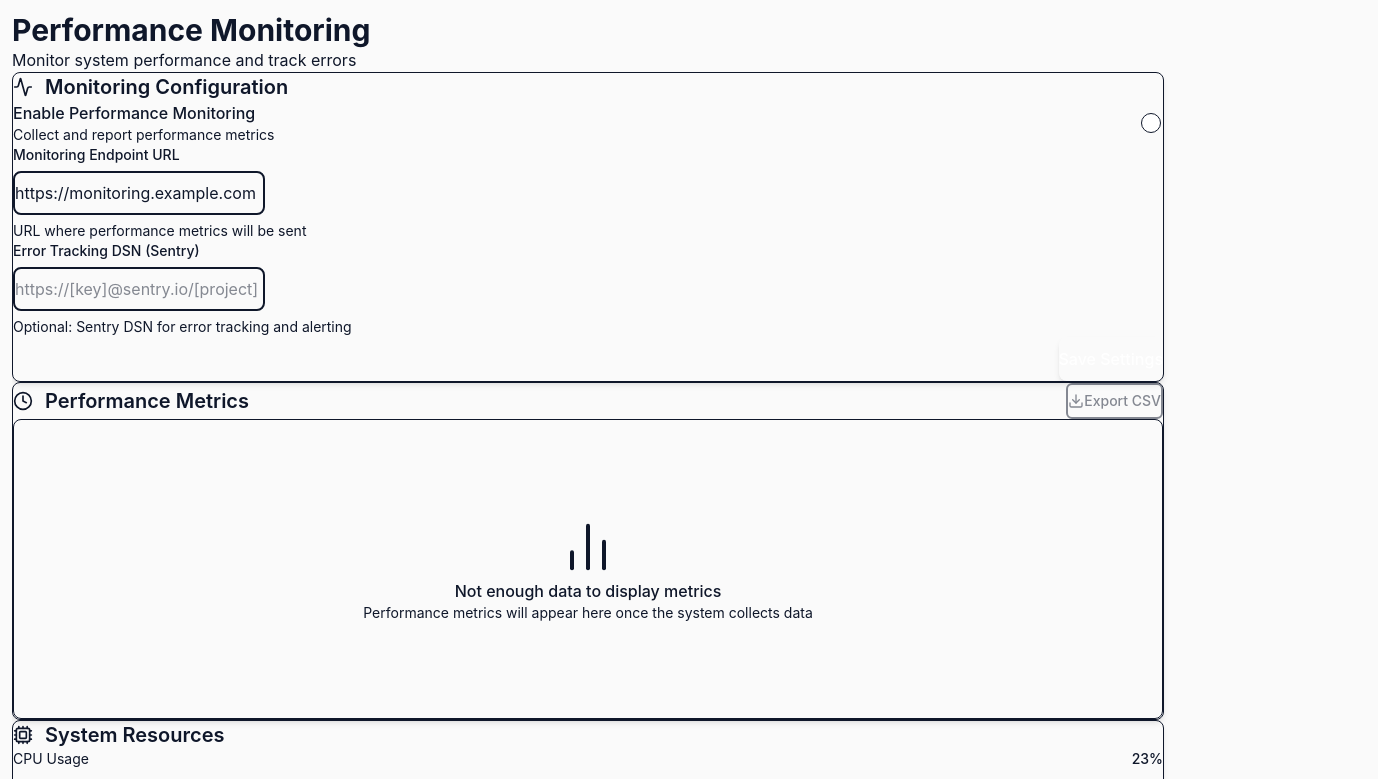
Test: PerformancePage Integration Tests › Monitoring Configuration - Requirement 25.2 › should disable fields when monitoring is disabled
# Disable monitoring
Click the checkbox at (134, 113), box 13,103 -> 255,123
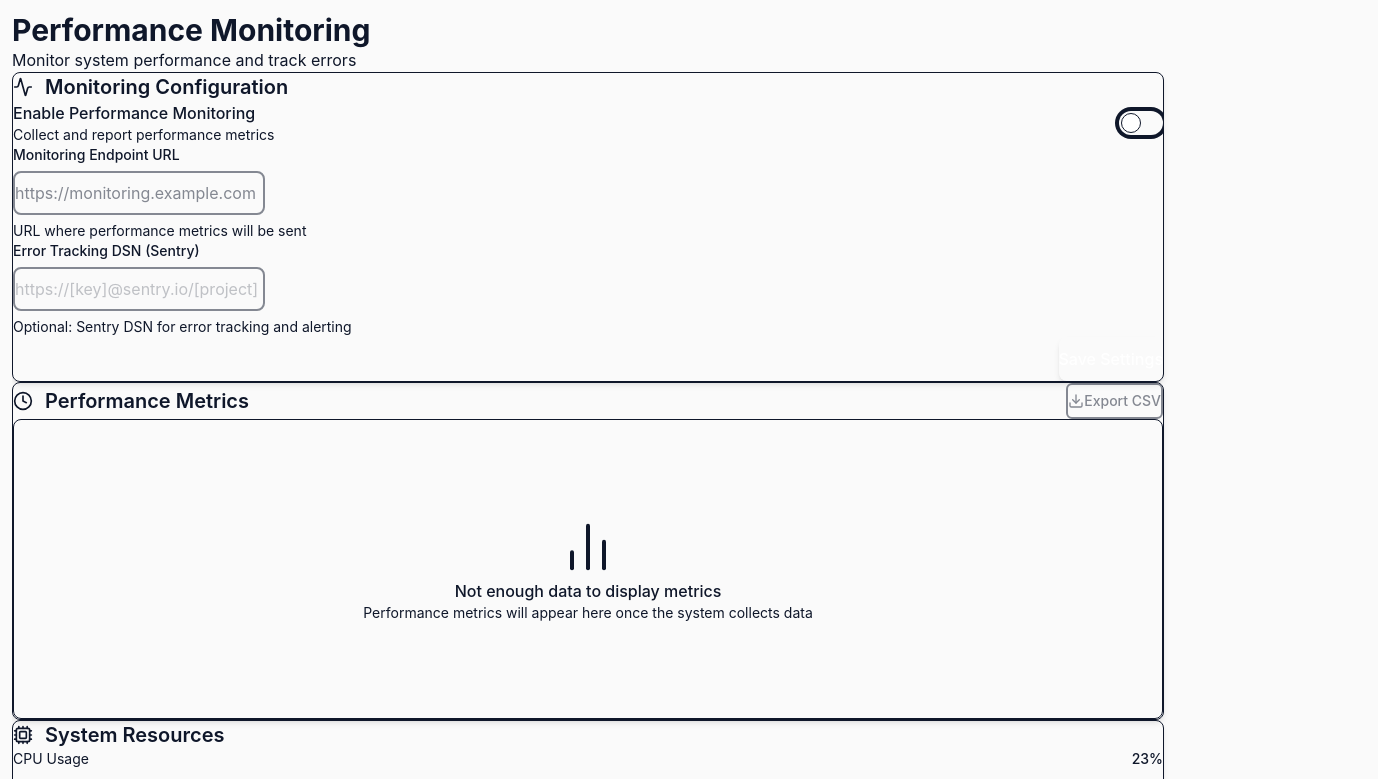
Check: the field labelled "Monitoring Endpoint URL" is disabled, box 13,171 -> 265,215
